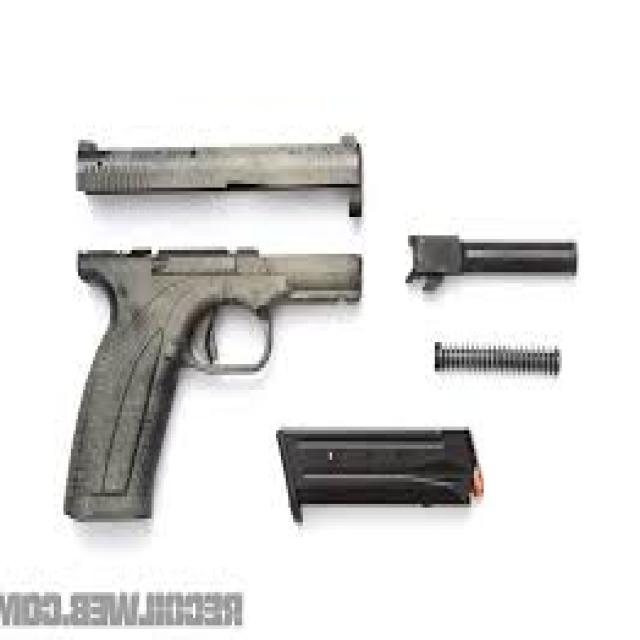Gun: (38, 116, 380, 530)
